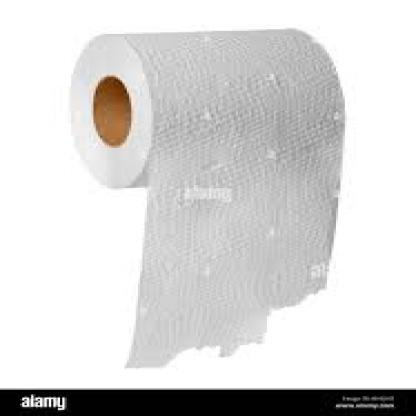tissue: (66, 29, 338, 216)
